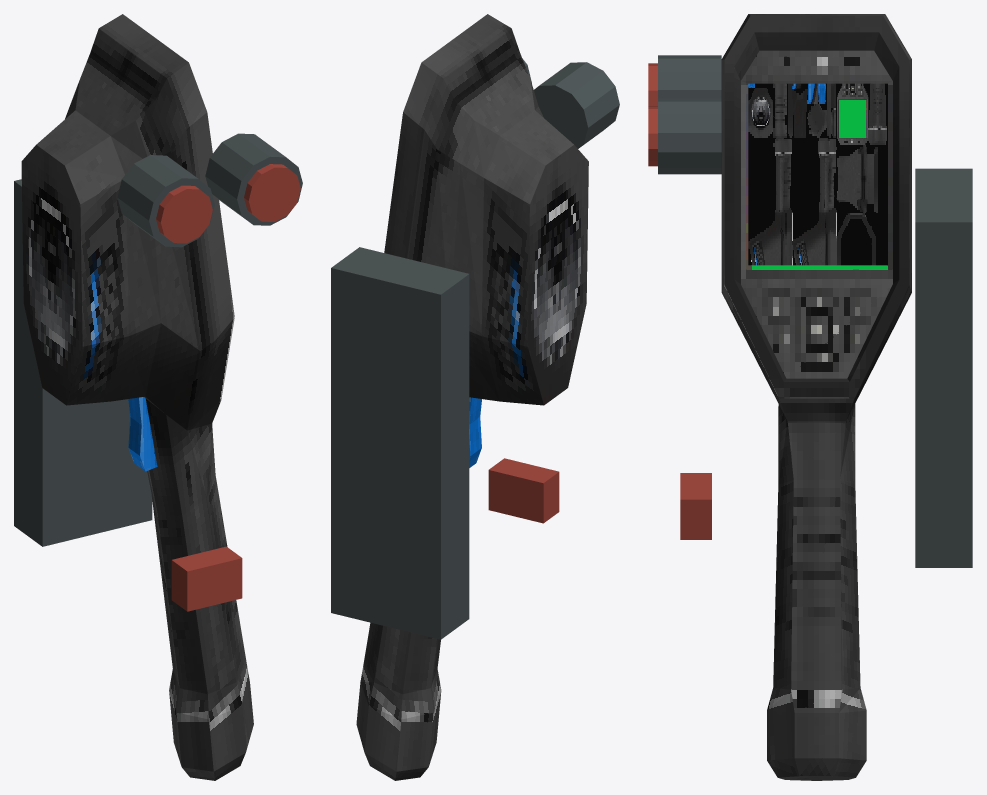
The model's file is blender_laser_grid_1_deployed.glb.
3 renders of one model, left to right at view 1: azimuth 30°, elevation 25°; view 2: azimuth 150°, elevation 25°; view 3: azimuth 270°, elevation 25°, orthographic.
Visible parts, largest first — view 1: blender_laser_grid_1_deployed; view 2: blender_laser_grid_1_deployed; view 3: blender_laser_grid_1_deployed.
Boxes of the visible parts, x1,y1,x2,y2 form: blender_laser_grid_1_deployed: [14, 14, 302, 780]; blender_laser_grid_1_deployed: [331, 14, 619, 780]; blender_laser_grid_1_deployed: [648, 14, 972, 780].
Size of the model in its own units: 0.035 by 0.13 by 0.051.
Materials: 1 (1 with a texture image).
